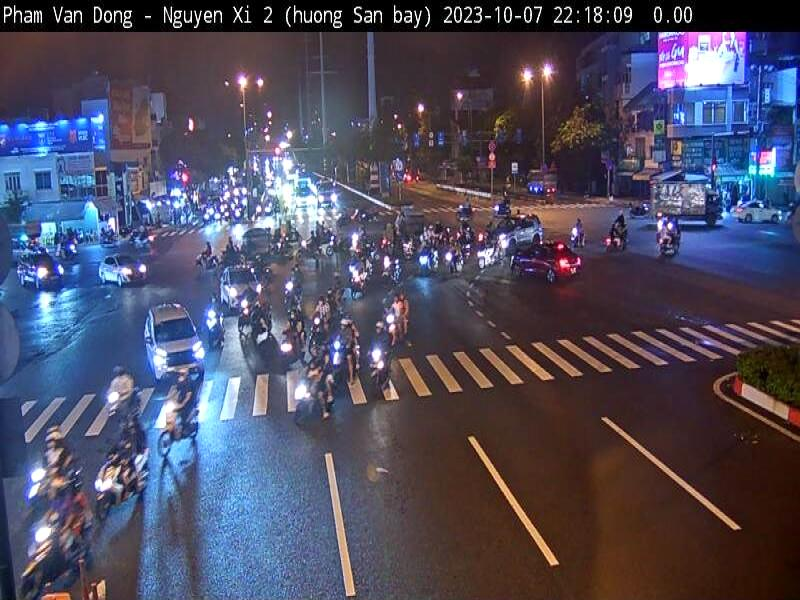car: (141, 293, 231, 396), (504, 236, 582, 285), (480, 206, 544, 263), (17, 249, 75, 308), (104, 249, 152, 310)
